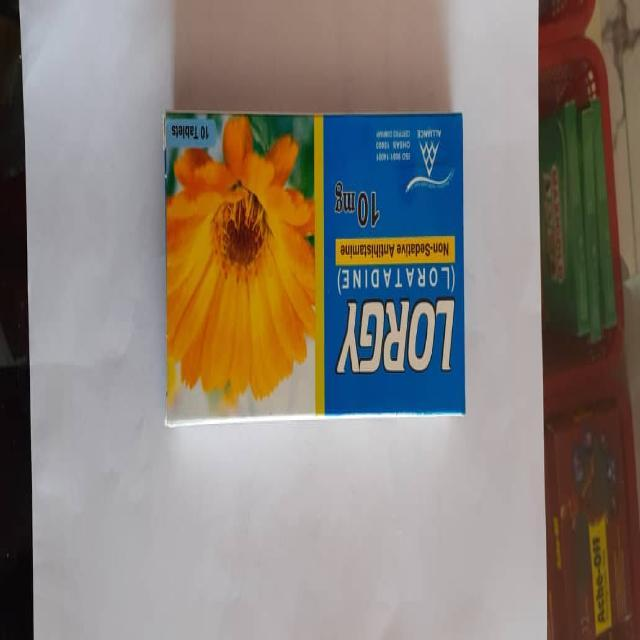drug-name: (329, 297, 457, 377)
